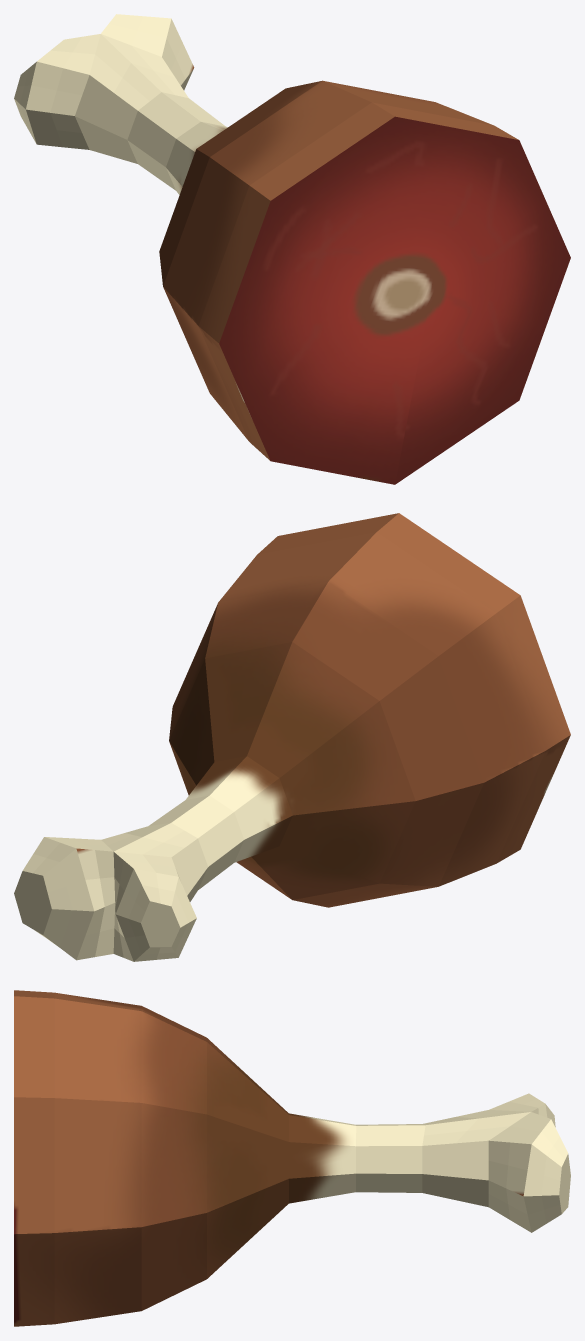
Rendered from meat.glb.
3 views of the same model, one above another, from view 1: azimuth 30°, elevation 25°; view 2: azimuth 150°, elevation 25°; view 3: azimuth 270°, elevation 25° (orthographic). The views are drawn at different scales.
Visible parts, largest first — view 1: FLEISCH; view 2: FLEISCH; view 3: FLEISCH.
Part boxes in pixels (x1=…): FLEISCH: x1=14, y1=14, x2=570, y2=484; FLEISCH: x1=14, y1=513, x2=570, y2=961; FLEISCH: x1=14, y1=990, x2=570, y2=1326.
Size of the model in its own units: 0.392 by 0.392 by 0.6094.
1 material, 1 textured.
